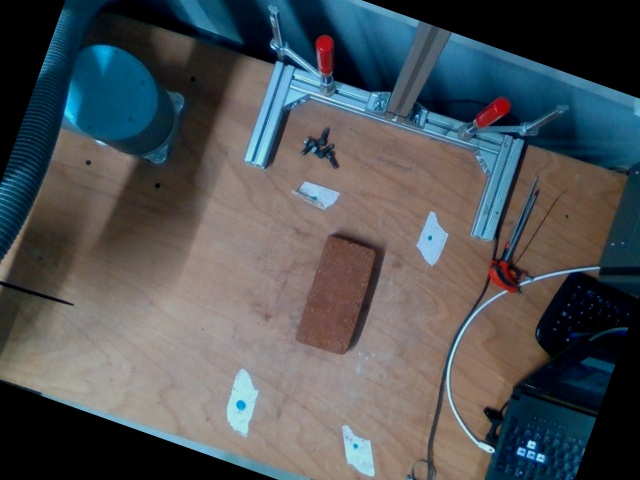brick: (293, 236, 376, 353)
